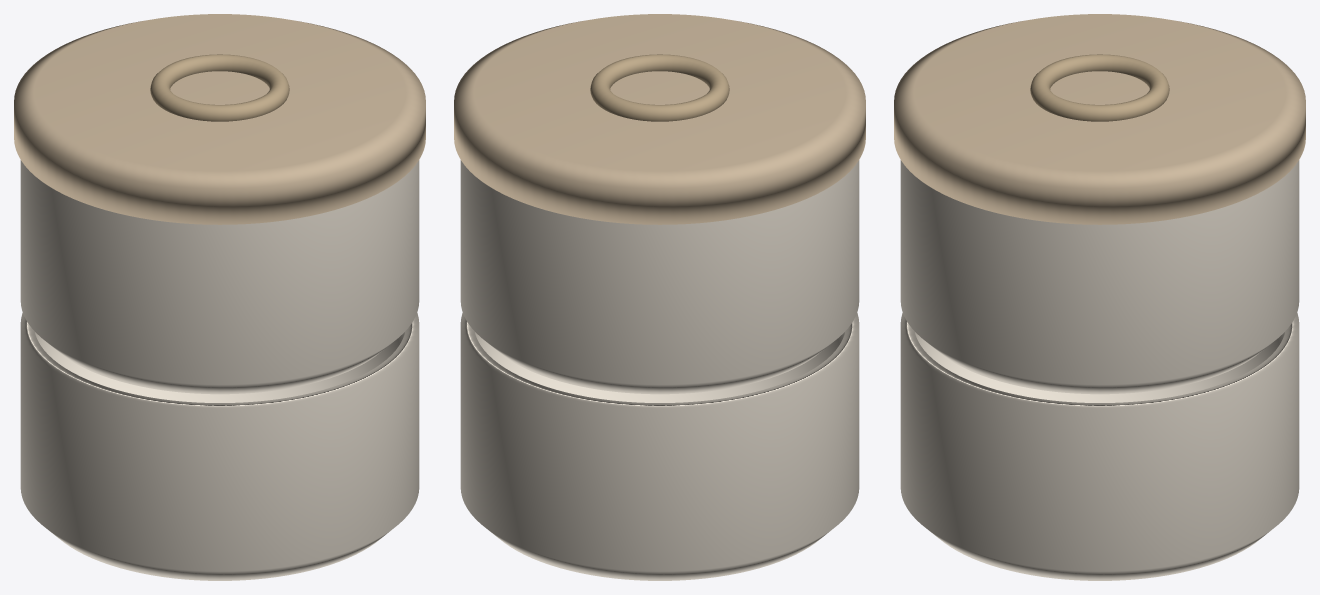
Rendered from fika-one.glb.
3 views of the same model, side by side, from view 1: azimuth 30°, elevation 25°; view 2: azimuth 150°, elevation 25°; view 3: azimuth 270°, elevation 25° (orthographic).
Parts seen in each view (by area): view 1: Tier1, LidPanel, Tier2, LidRing; view 2: Tier1, LidPanel, Tier2, LidRing; view 3: Tier1, LidPanel, Tier2, LidRing.
Part boxes in pixels (x1,y1,x2,y2): Tier1: [20, 313, 419, 580]; LidPanel: [14, 14, 425, 224]; Tier2: [20, 160, 419, 394]; LidRing: [150, 54, 289, 121]; Tier1: [460, 313, 859, 580]; LidPanel: [454, 14, 865, 224]; Tier2: [460, 160, 859, 394]; LidRing: [590, 54, 729, 121]; Tier1: [900, 313, 1299, 580]; LidPanel: [894, 14, 1305, 224]; Tier2: [900, 160, 1299, 394]; LidRing: [1030, 54, 1169, 121].
Size of the model in its own units: 0.124 by 0.141 by 0.124.
